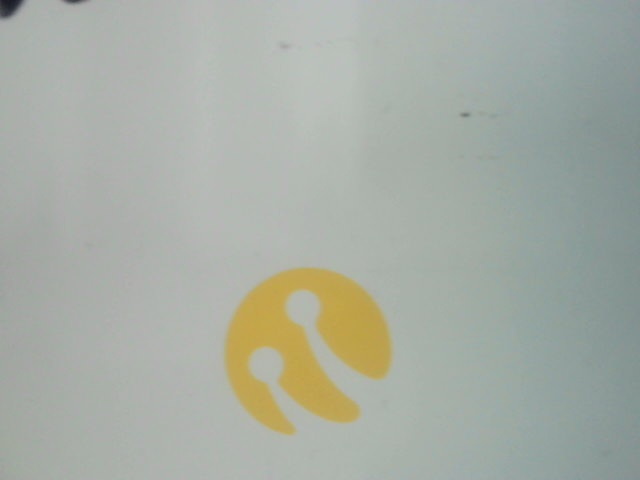AV_H3600Yellow: (210, 262, 416, 437)
